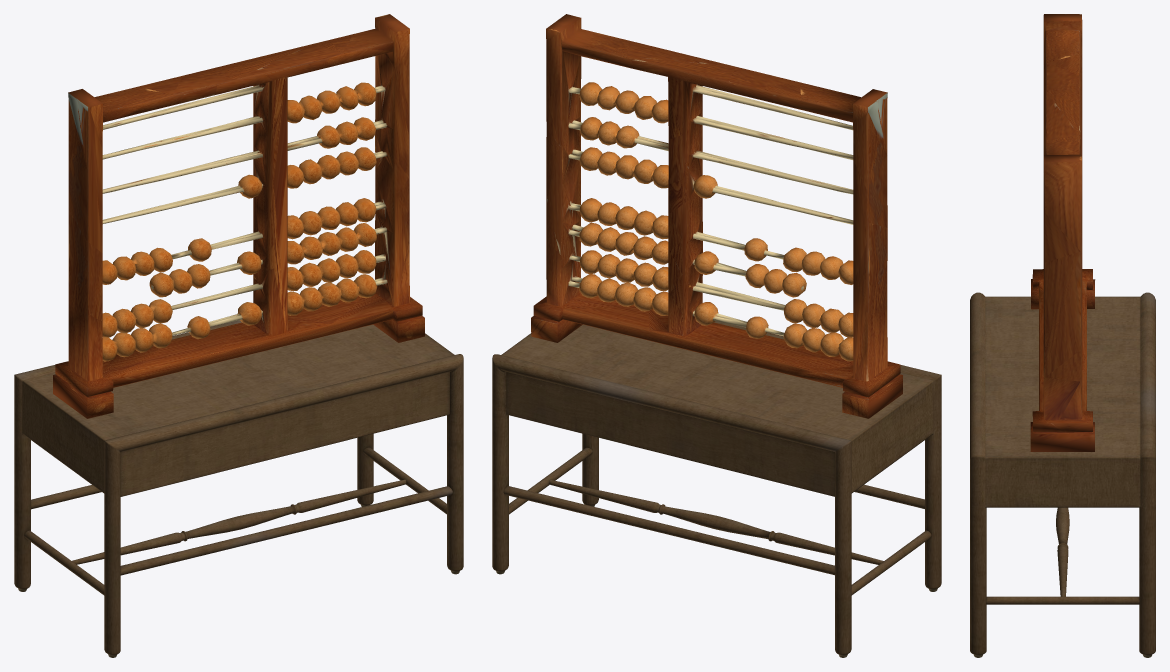
Rendered from abacus.glb.
3 renders of one model, left to right at view 1: azimuth 30°, elevation 25°; view 2: azimuth 150°, elevation 25°; view 3: azimuth 270°, elevation 25°, orthographic. The views are drawn at different scales.
Parts seen in each view (by area): view 1: abacus_top, abacus_table; view 2: abacus_top, abacus_table; view 3: abacus_table, abacus_top.
Part boxes in pixels (<box>): abacus_top: <box>53,14,424,418</box>; abacus_table: <box>14,320,463,657</box>; abacus_top: <box>531,14,902,418</box>; abacus_table: <box>492,321,941,657</box>; abacus_table: <box>970,292,1155,657</box>; abacus_top: <box>1030,14,1095,451</box>.
Bounding box in the file's own units: 0.9162 × 1.28 × 0.44.
Materials: 2 (2 with a texture image).
